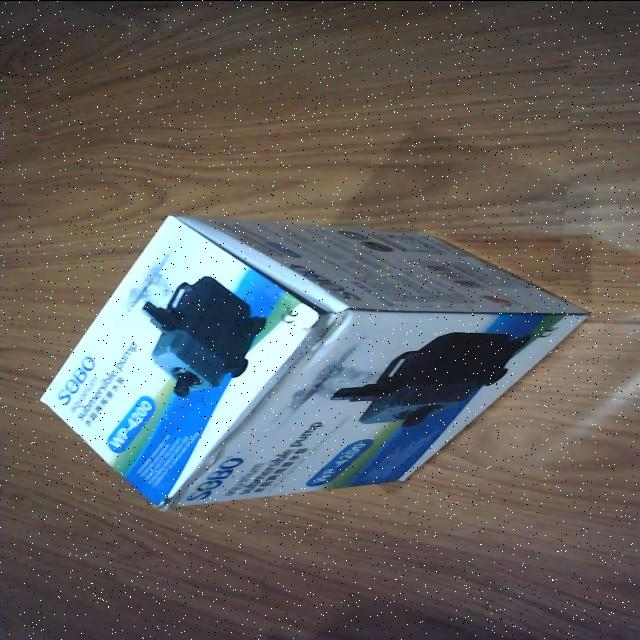SOBO_WP_4200: (32, 211, 594, 514)
